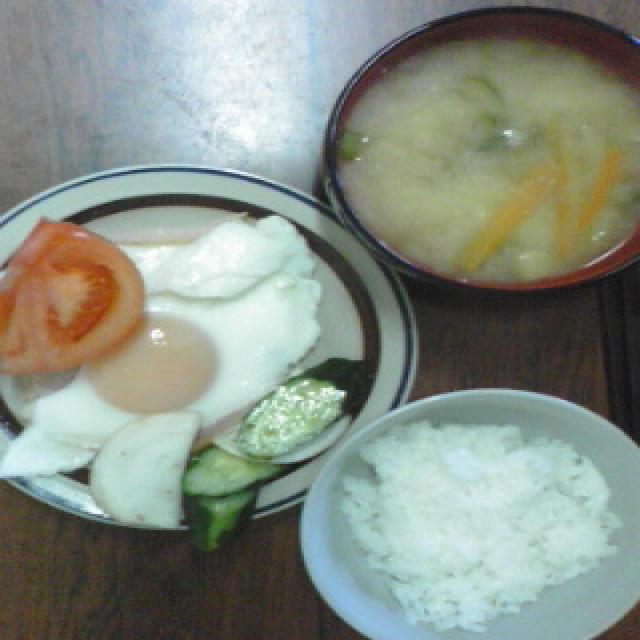Rice: (328, 421, 628, 628)
